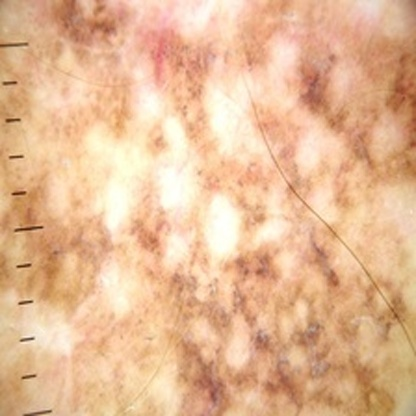malignant: (130, 17, 384, 407), (47, 5, 409, 178), (103, 199, 384, 404)
